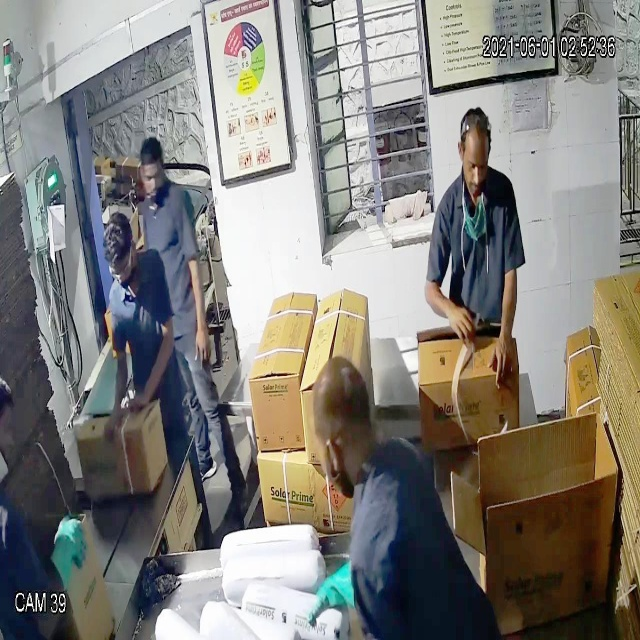Gafas: (105, 246, 136, 287)
Sin_gafas: (456, 143, 496, 181)
